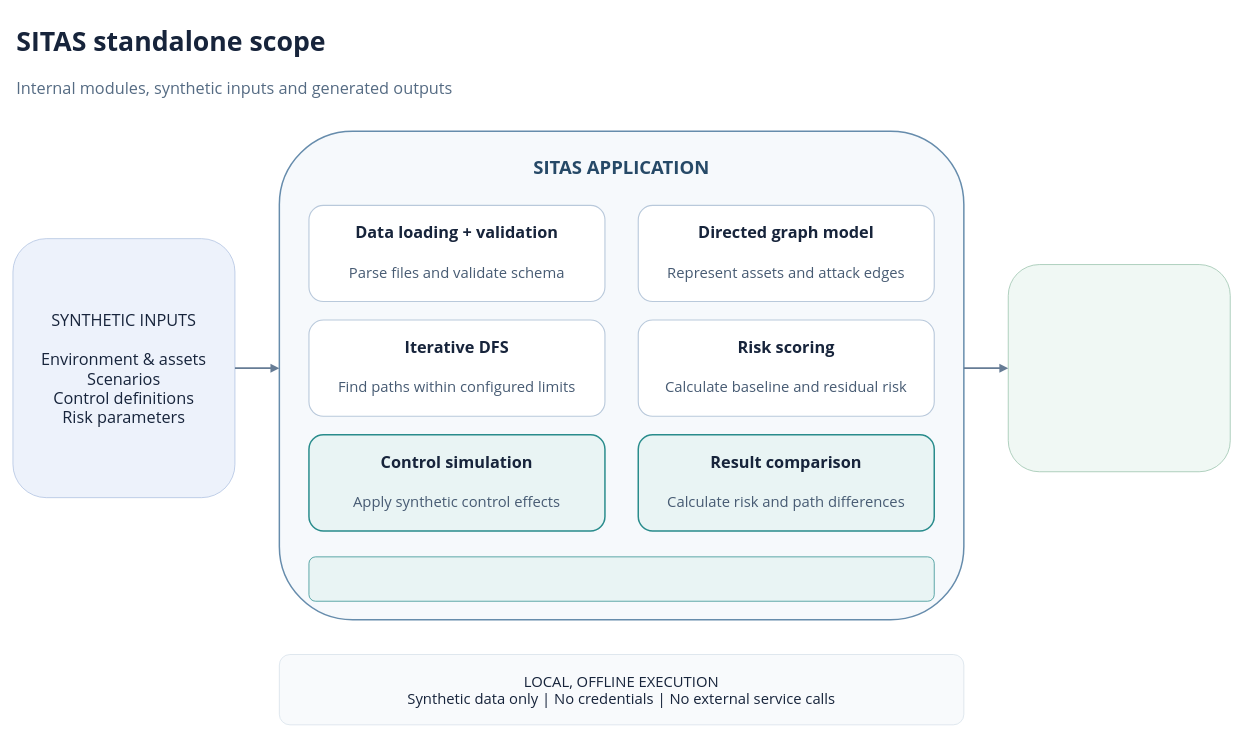
Image size: 1243x738. Some labels were removed from this diagram. Here are the shapes that lost their labels. From the top down, the centre of each, then its label:
At point 1119,368: "GENERATED OUTPUTS JSON results CSV comparison HTML report".
At point 621,578: "Report generation: JSON, CSV and HTML".
